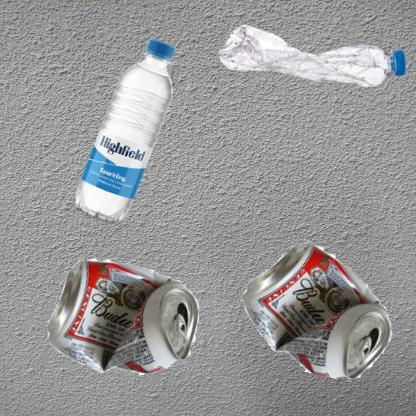botella: (10, 10, 262, 272), (213, 10, 416, 103)
lata: (10, 213, 256, 416), (213, 213, 416, 407)
